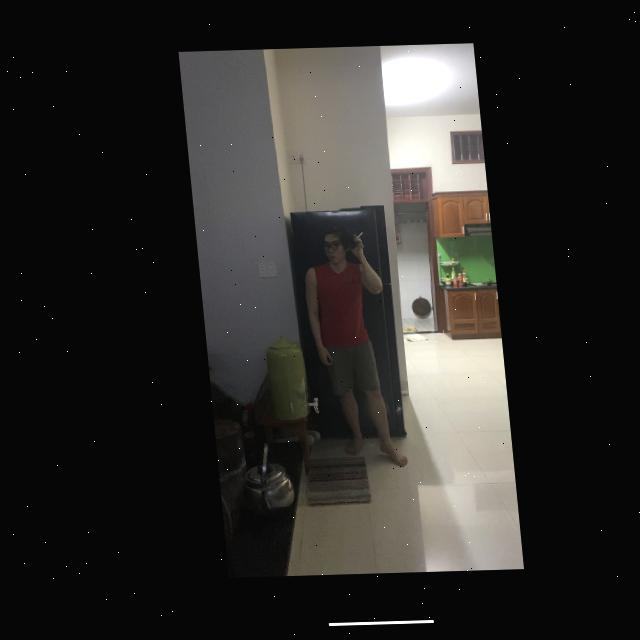cigarette: (351, 234, 358, 240)
